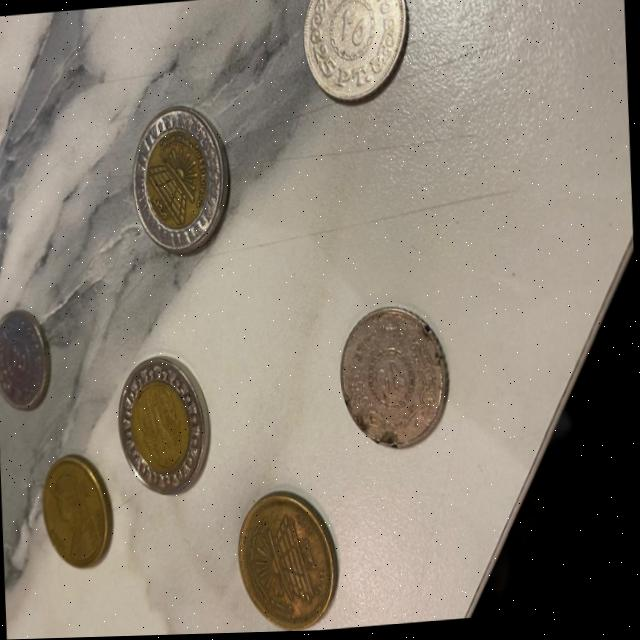Half Pound: (227, 478, 349, 635), (31, 449, 130, 594)
One Pound: (120, 98, 247, 282), (116, 335, 220, 501)
quarter pound: (328, 291, 463, 472), (283, 0, 422, 135), (0, 289, 65, 434)
